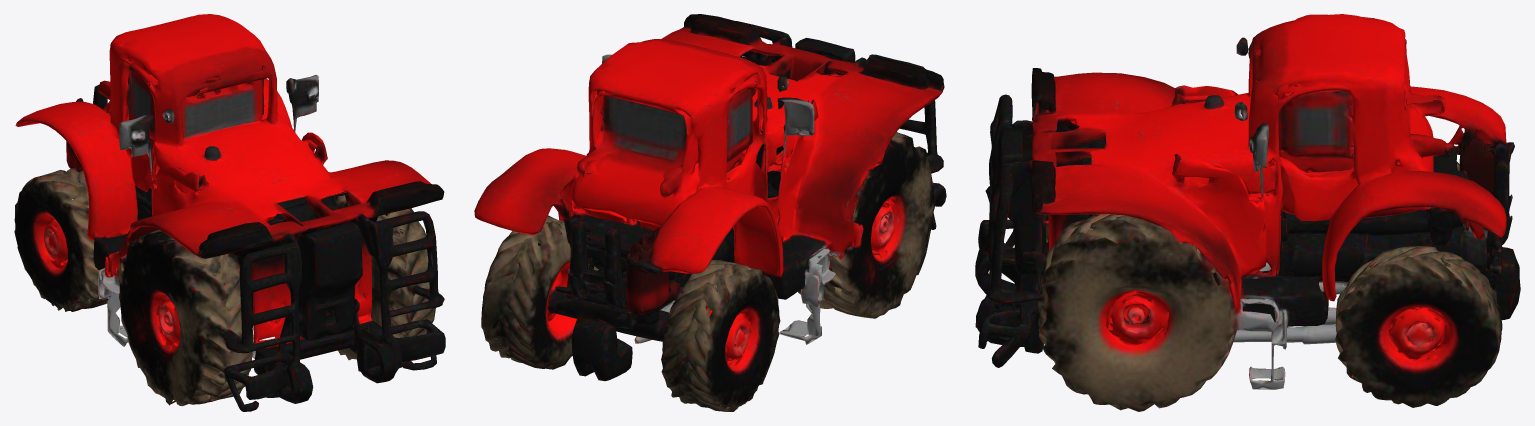
Rendered from tractor_2.glb.
3 renders of one model, left to right at view 1: azimuth 30°, elevation 25°; view 2: azimuth 150°, elevation 25°; view 3: azimuth 270°, elevation 25°, orthographic. The views are drawn at different scales.
Visible parts, largest first — view 1: world; view 2: world; view 3: world.
Boxes of the visible parts, x1,y1,x2,y2 form: world: (14, 14, 445, 411); world: (474, 14, 946, 411); world: (975, 14, 1520, 411).
Bounding box in the file's own units: 0.6245 × 0.6246 × 1.
Materials: 1 (1 with a texture image).
